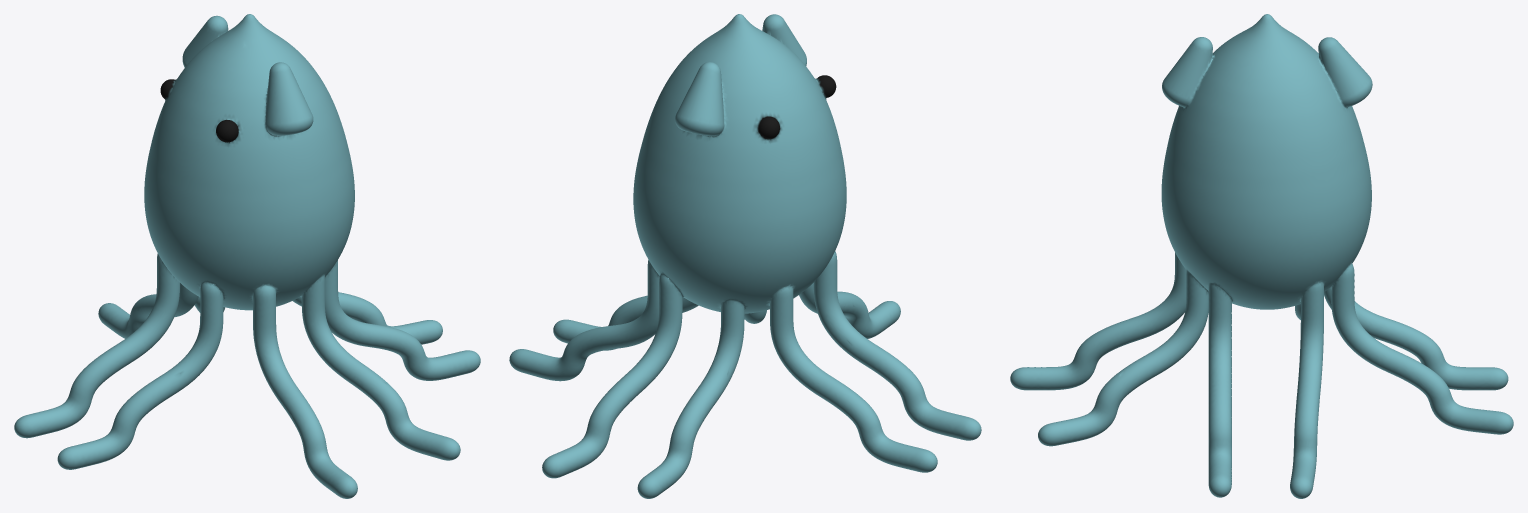
3 views of the same model, side by side, from view 1: azimuth 30°, elevation 25°; view 2: azimuth 150°, elevation 25°; view 3: azimuth 270°, elevation 25° (orthographic).
Parts seen in each view (by area): view 1: Area (9); view 2: Area (9); view 3: Area (9).
Boxes of the visible parts, x1,y1,x2,y2 form: Area (9): (14,14,480,498); Area (9): (509,14,981,498); Area (9): (1010,14,1513,498).
Size of the model in its own units: 473 by 414 by 488.
Materials: 1 (1 with a texture image).
